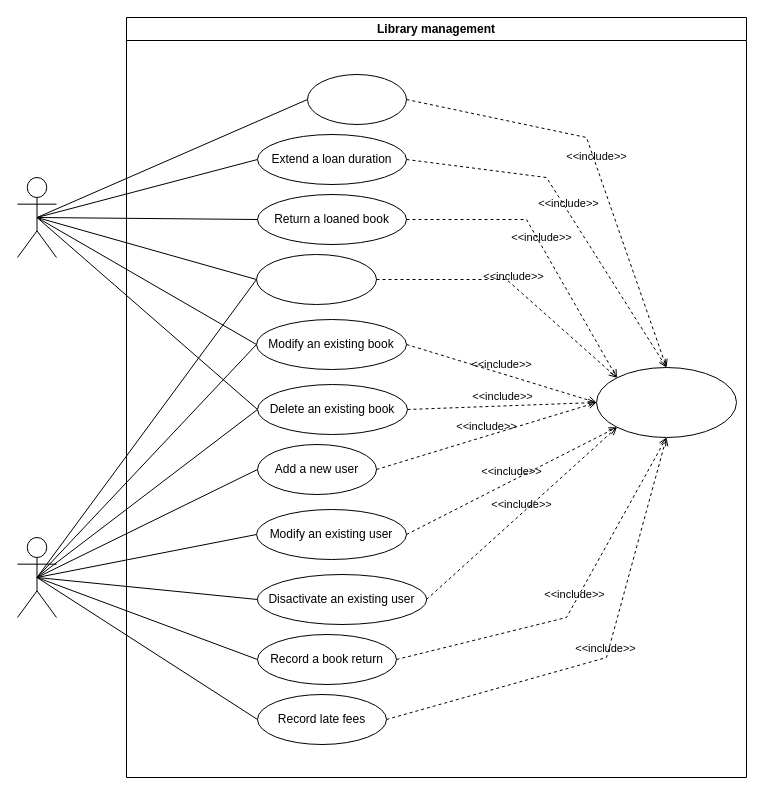
Some shapes in this 764 by 795 pixel diagram are drawn without their labels. The shapes that lost their labels are listed below. From the top down, each one's box as (x1, y1, x2, y2) in pixels, then its label:
(306, 74, 406, 124): Loan a book
(16, 176, 56, 258): User
(256, 254, 376, 304): Add a new book
(596, 366, 736, 438): Authentification
(16, 536, 56, 618): Admin
